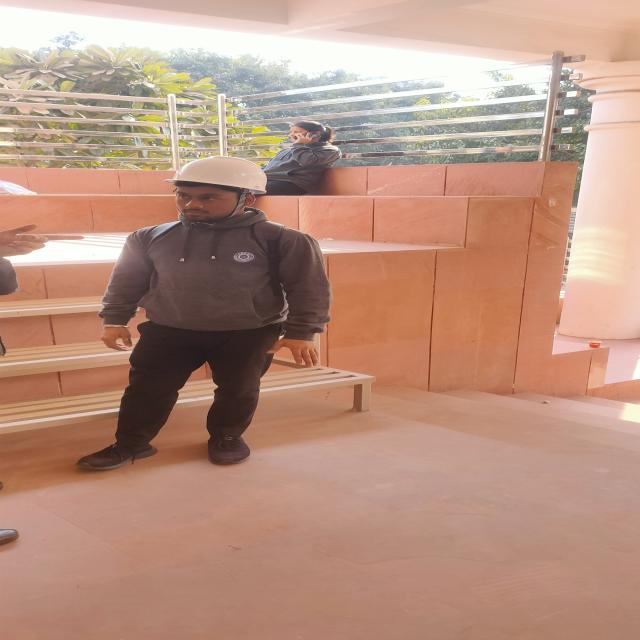no jacket: (86, 156, 322, 473)
unsafe: (256, 121, 345, 197)
